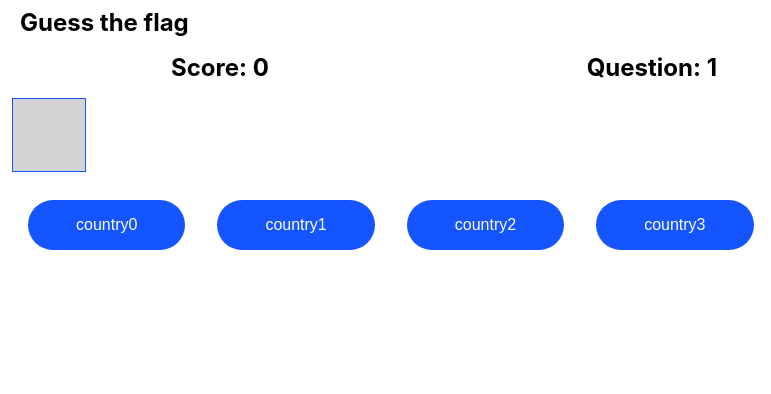
it: <Game /> › should handle clicking next before question limit
Click the button with test id "button 0" at (107, 225), box 28,200 -> 185,250
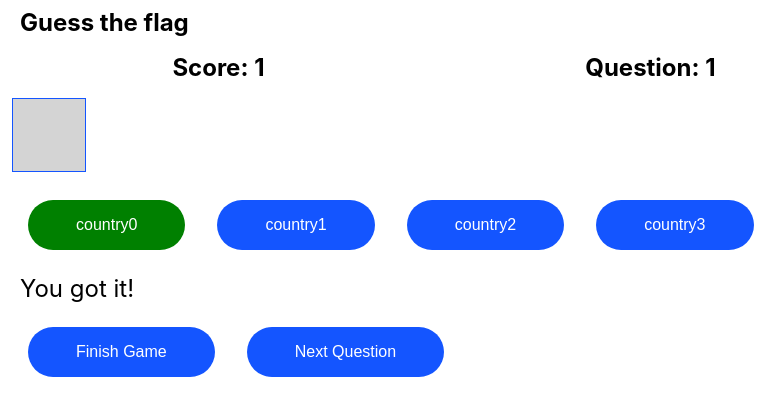
Check: the text "You got it!" is shown, box 20,274 -> 134,303
Click the button with test id "next-question" at (345, 352), box 247,327 -> 444,377
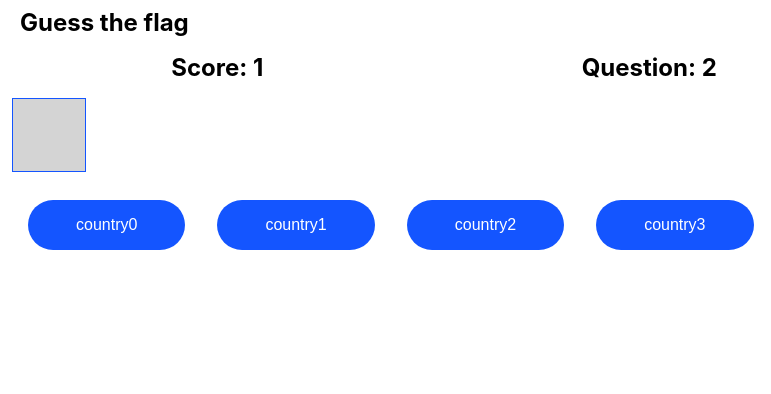
Check: the heading with test id "question-count" reads "Question: 2", box 582,53 -> 717,82
